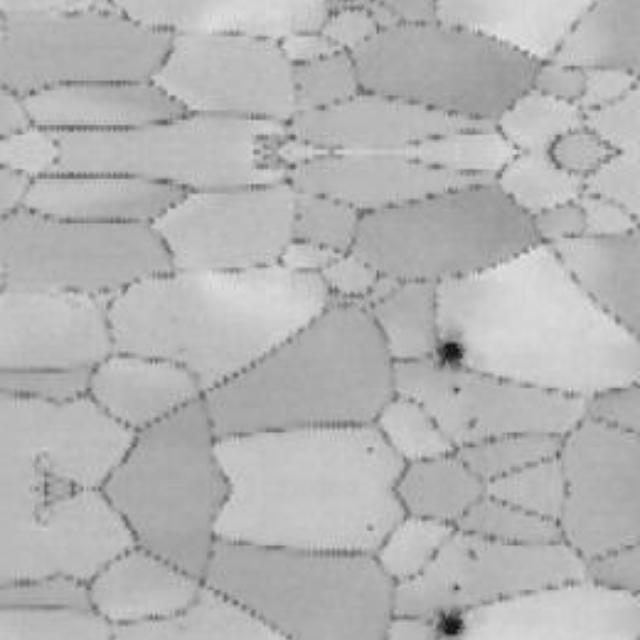good_void: (429, 333, 465, 365), (429, 611, 465, 640), (465, 547, 476, 561), (465, 416, 476, 429), (450, 386, 464, 396), (450, 581, 464, 591), (364, 444, 373, 453), (364, 524, 373, 532)
